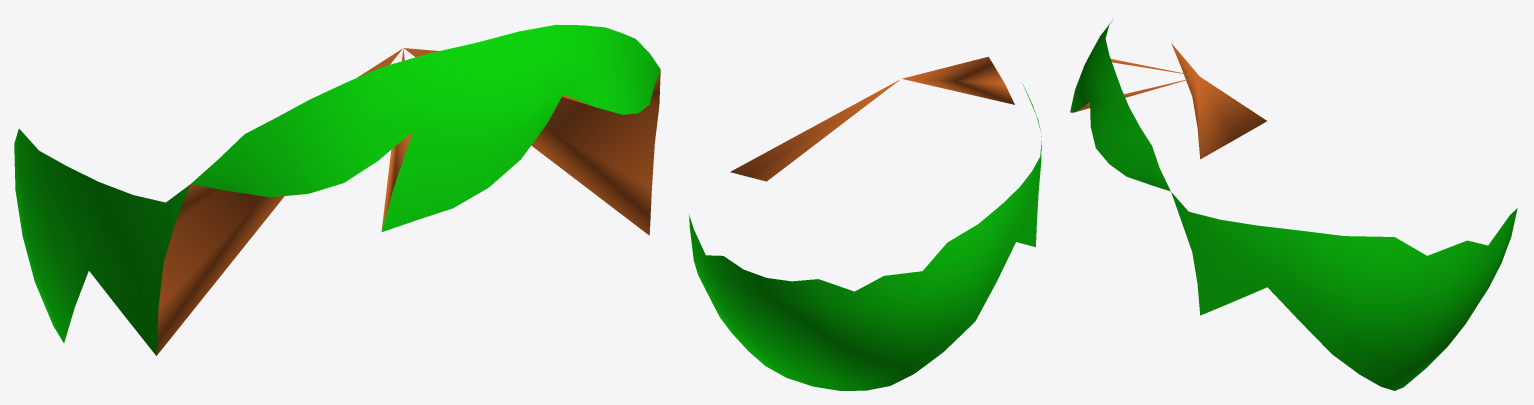
The model's file is Hair2_46.glb.
3 renders of one model, left to right at view 1: azimuth 30°, elevation 25°; view 2: azimuth 150°, elevation 25°; view 3: azimuth 270°, elevation 25°, orthographic. The views are drawn at different scales.
Size of the model in its own units: 53.05 by 48.24 by 60.15.
